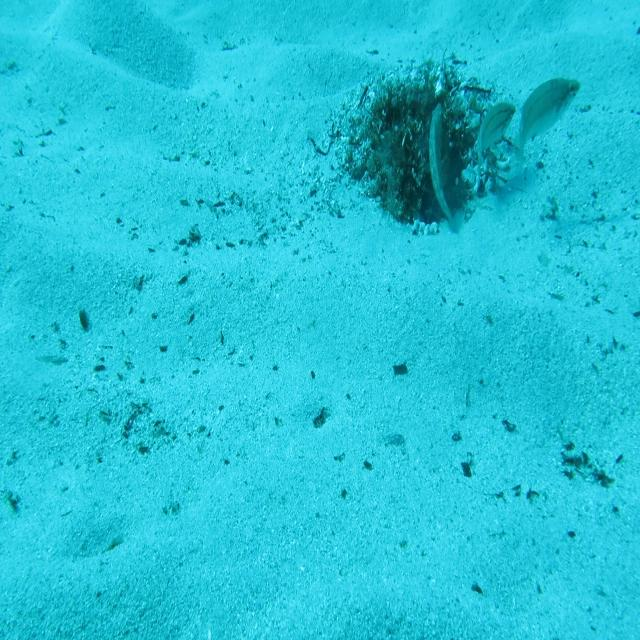FAN: (426, 102, 464, 238)
core_nest: (395, 102, 440, 130)
female: (508, 78, 581, 188), (475, 101, 515, 192)
nest: (332, 62, 513, 242)
